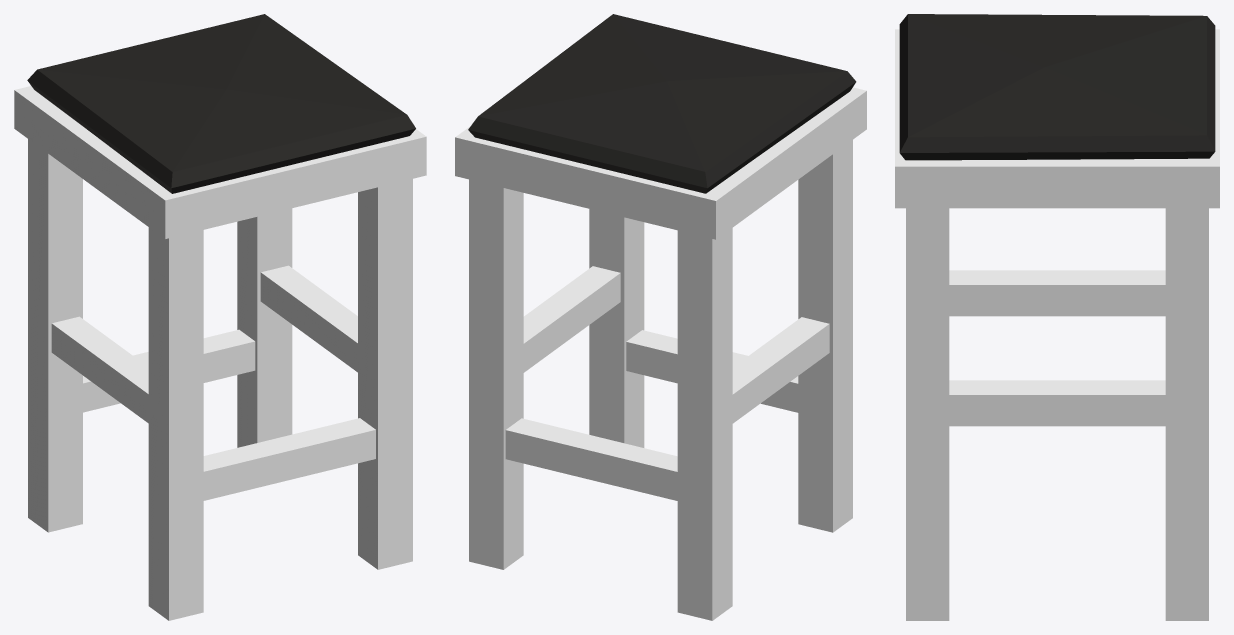
File: Stool_1A.fbx
3 views of the same model, side by side, from view 1: azimuth 30°, elevation 25°; view 2: azimuth 150°, elevation 25°; view 3: azimuth 270°, elevation 25° (orthographic). The views are drawn at different scales.
Visible parts, largest first — view 1: polySurface1841; view 2: polySurface1841; view 3: polySurface1841.
Boxes of the visible parts, x1,y1,x2,y2 form: polySurface1841: (14,14,426,620); polySurface1841: (455,14,866,620); polySurface1841: (895,14,1219,620).
Bounding box in the file's own units: 0.6 × 0.9972 × 0.6.
1 material, 1 textured.
